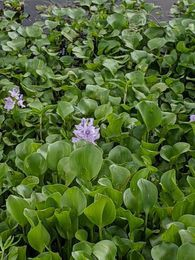water_hyacinth: (0, 138, 195, 260)
